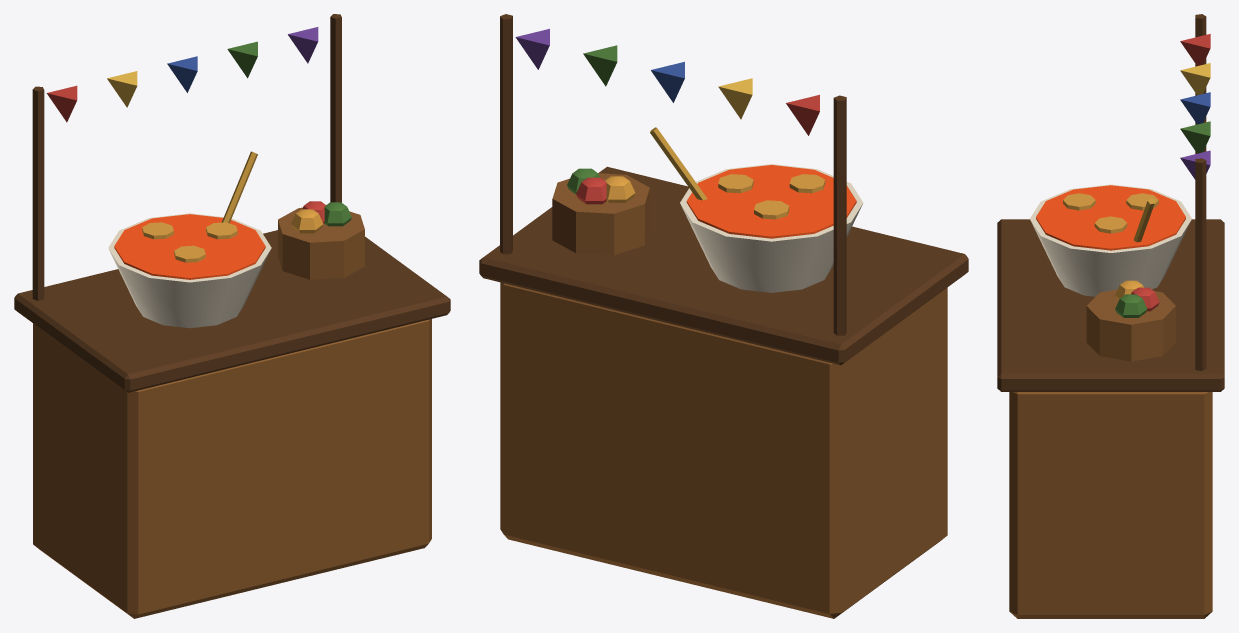
Rendered from PR_Station_Punc_T1.fbx.
3 renders of one model, left to right at view 1: azimuth 30°, elevation 25°; view 2: azimuth 150°, elevation 25°; view 3: azimuth 270°, elevation 25°, orthographic. The views are drawn at different scales.
Visible parts, largest first — view 1: PR_Station_Punc_T1; view 2: PR_Station_Punc_T1; view 3: PR_Station_Punc_T1.
Part boxes in pixels (bbox=[...]): PR_Station_Punc_T1: bbox=[14, 14, 450, 618]; PR_Station_Punc_T1: bbox=[479, 14, 968, 618]; PR_Station_Punc_T1: bbox=[997, 14, 1224, 618].
Bounding box in the file's own units: 0.92 × 1.25 × 0.56.
